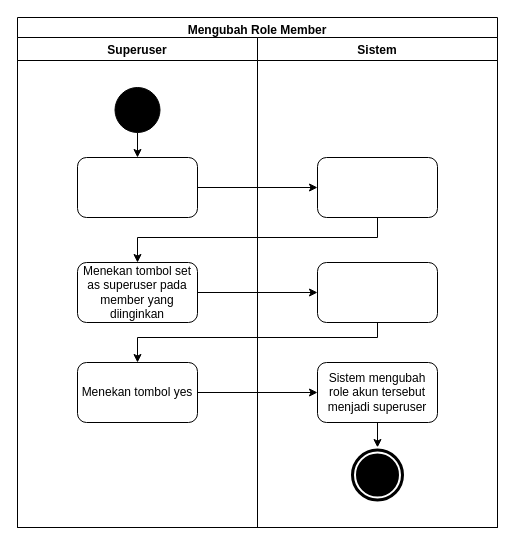
Some shapes in this 515 by 545 pixel diagram are drawn without their labels. The centre of each missing label's shape, as x and y in pixels:
Membuka halaman daftar user: pixel 137 187
Memunculkan dialog konfirmasi perubahan: pixel 377 292
Menampilkan daftar user yang terdaftar: pixel 377 187
